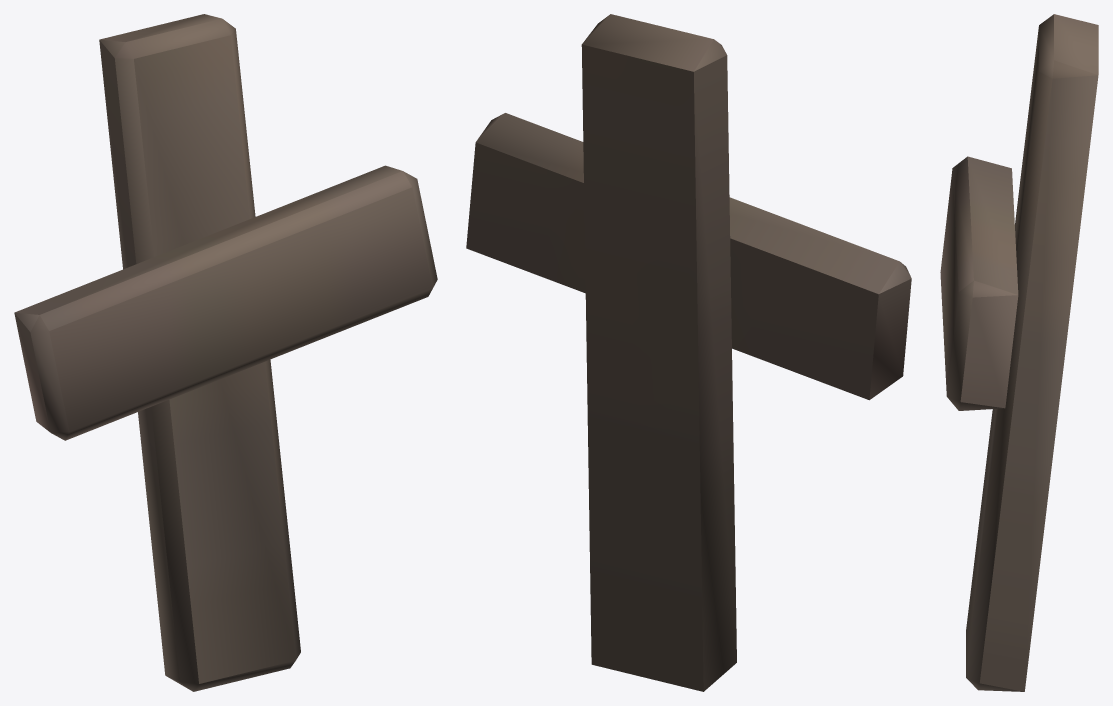
The model's file is kay-cruz-tumulo.gltf.
3 renders of one model, left to right at view 1: azimuth 30°, elevation 25°; view 2: azimuth 150°, elevation 25°; view 3: azimuth 270°, elevation 25°, orthographic. The views are drawn at different scales.
Parts seen in each view (by area): view 1: gravemarker_A; view 2: gravemarker_A; view 3: gravemarker_A.
Boxes of the visible parts, left/top/right/bottom form: gravemarker_A: left=14, top=14, right=437, bottom=691; gravemarker_A: left=466, top=14, right=911, bottom=691; gravemarker_A: left=940, top=14, right=1098, bottom=691.
Bounding box in the file's own units: 0.403 × 0.5981 × 0.1391.
1 material, 1 textured.
